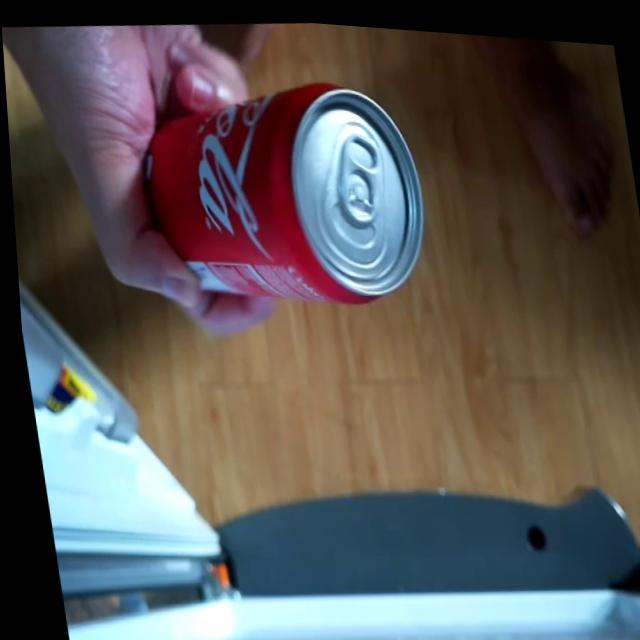coke: (123, 50, 447, 342)
